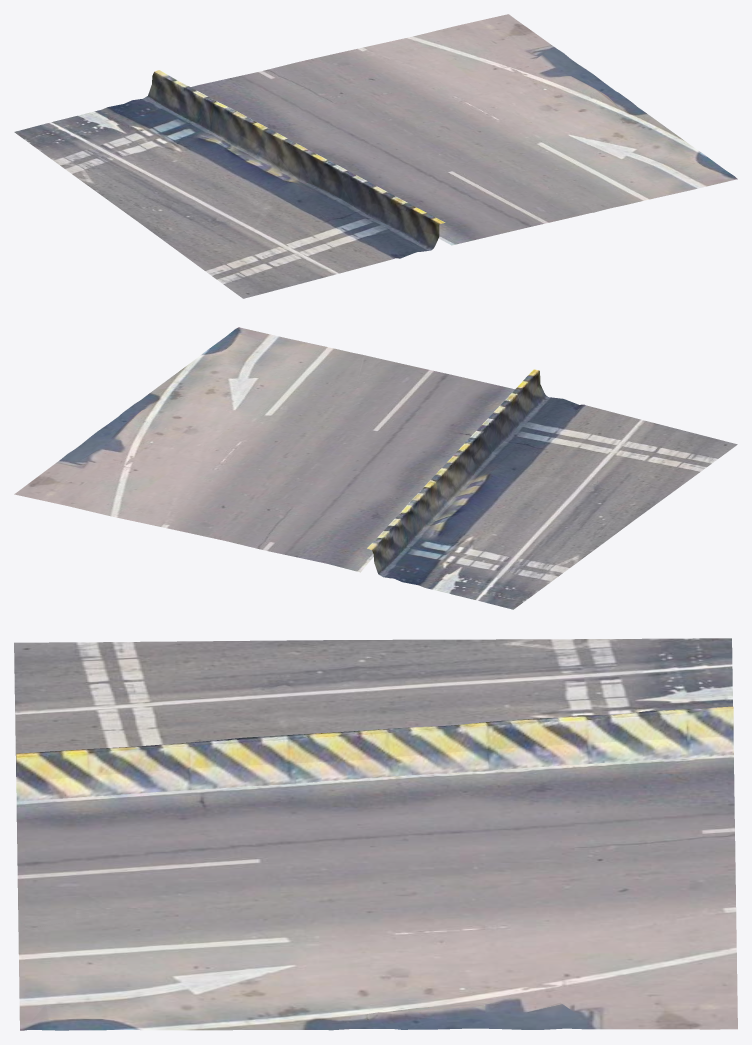
Rendered from Tile_+006_+007_L21_000110t3.glb.
3 renders of one model, top to bottom at view 1: azimuth 30°, elevation 25°; view 2: azimuth 150°, elevation 25°; view 3: azimuth 270°, elevation 25°, orthographic. The views are drawn at different scales.
Visible parts, largest first — view 1: rtc; view 2: rtc; view 3: rtc.
Part boxes in pixels (x1=…): rtc: x1=14, y1=14, x2=737, y2=298; rtc: x1=14, y1=327, x2=737, y2=609; rtc: x1=14, y1=638, x2=737, y2=1030.
Size of the model in its own units: 17.85 by 1.06 by 14.16.
1 material, 1 textured.
